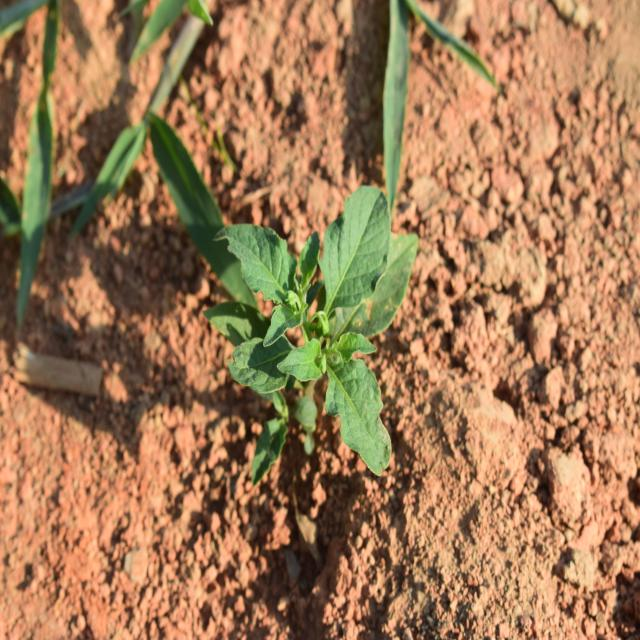Black_nightshade: (218, 179, 409, 482)
